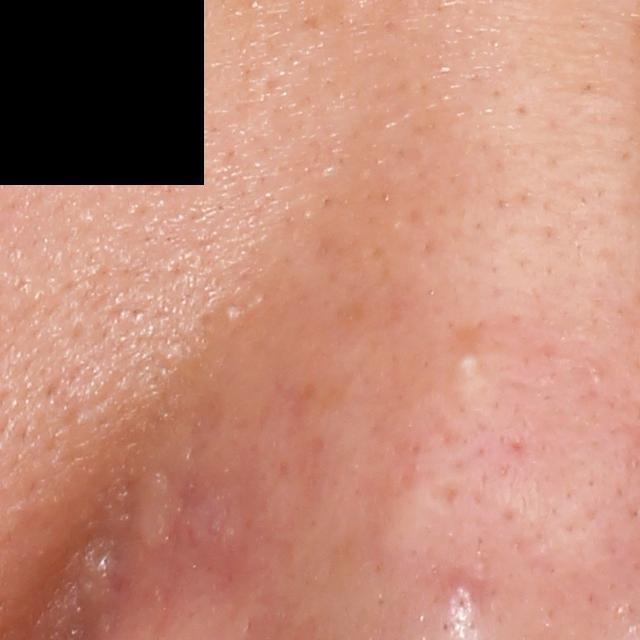comedo: (211, 300, 245, 328)
hypertrophic_scar: (120, 459, 187, 561)
